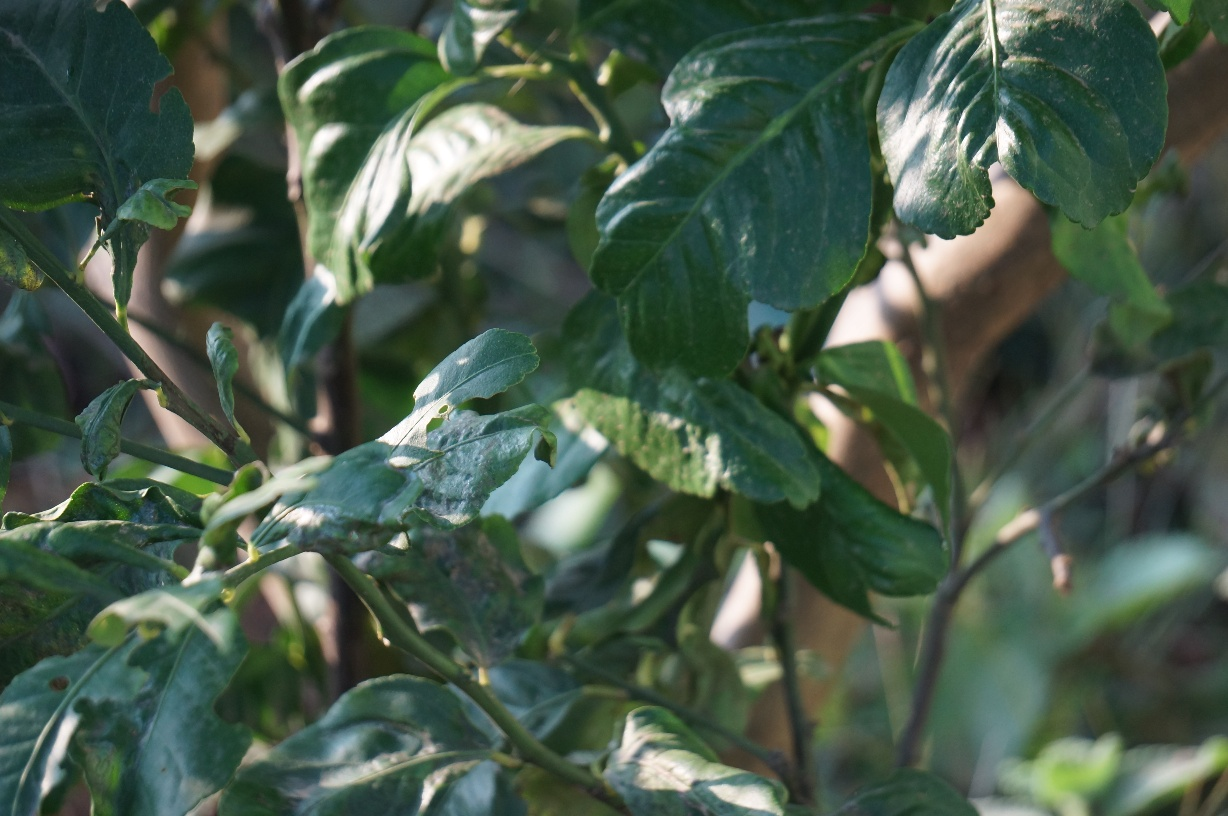curly: (73, 375, 162, 483), (202, 318, 262, 449)
